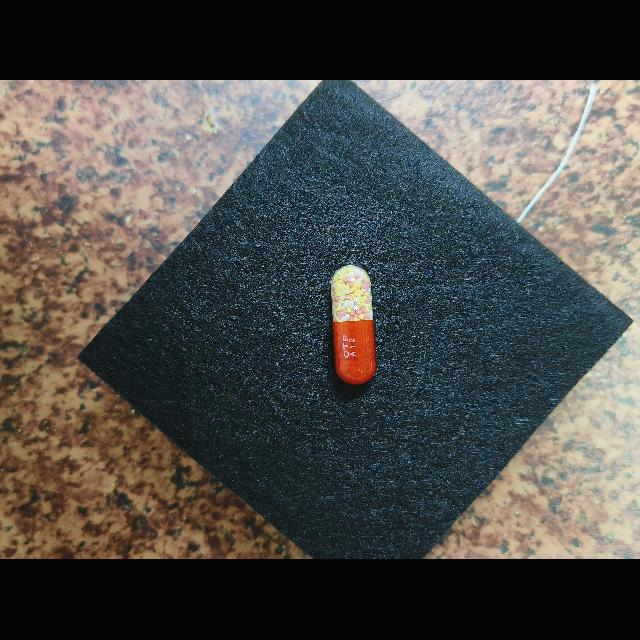Intact Capsule: (331, 266, 377, 386)
